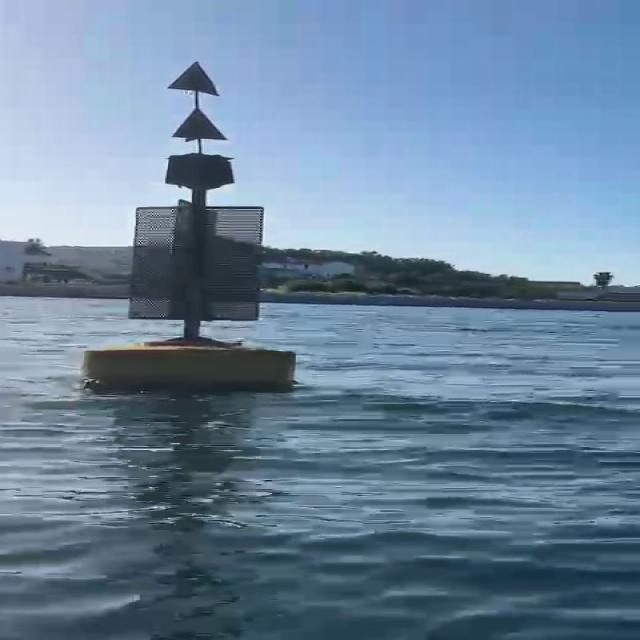marque: (88, 59, 304, 396)
